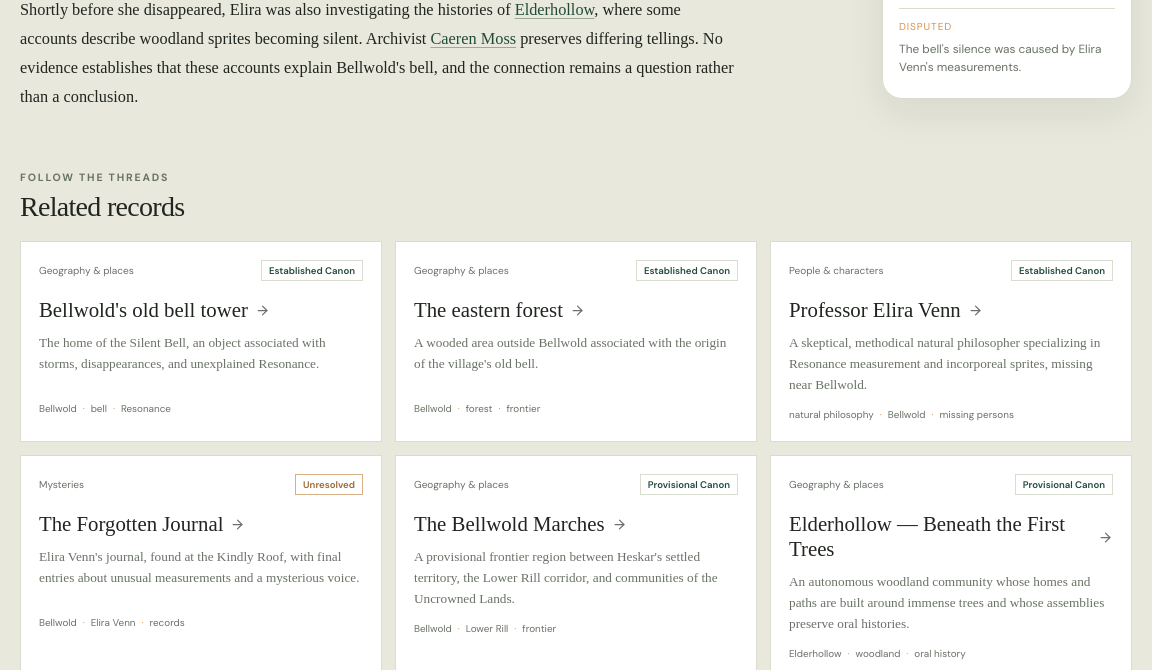
Test: CodexScreen › renders a mystery article and turns internal links into Codex navigation
(page scrolled)
Click the link "Bellwold's old bell tower" at (154,311), box [39, 298, 270, 323]
(page scrolled)
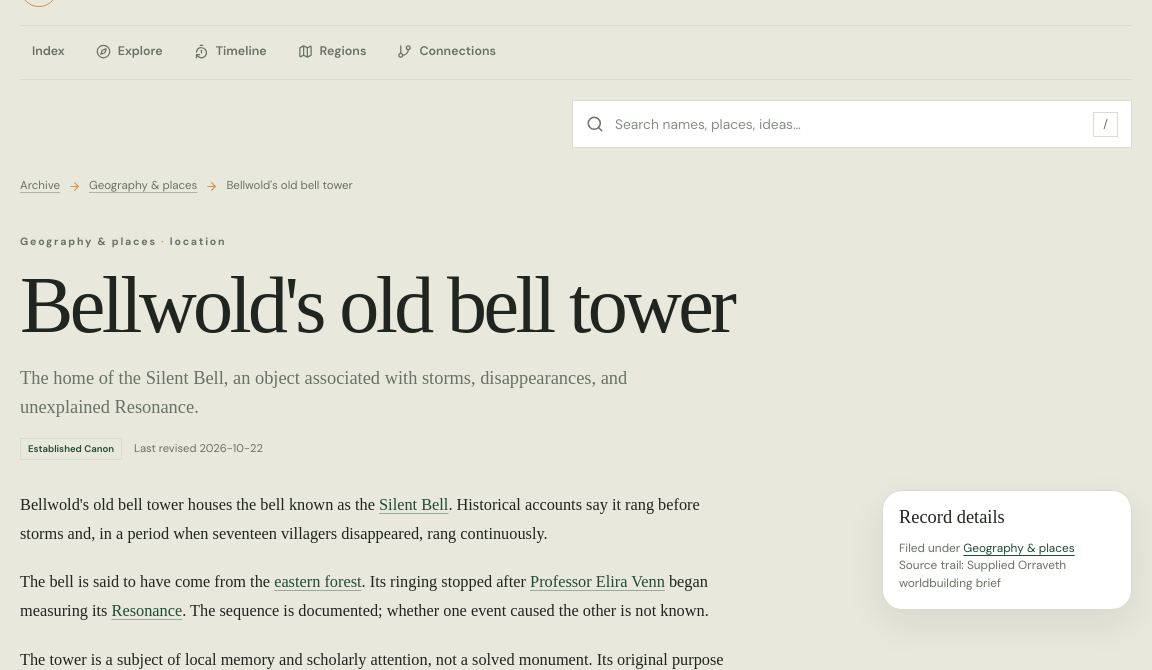
Expected: the heading "Bellwold's old bell tower" is shown, [20, 264, 780, 347]
